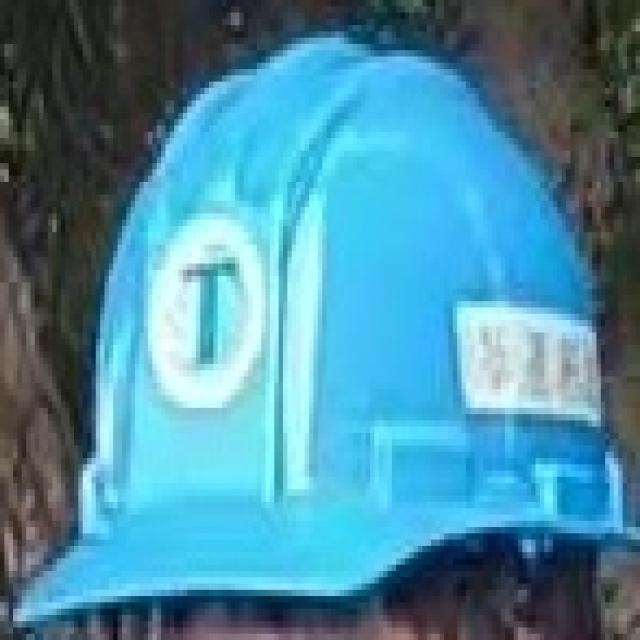Helmet: (2, 3, 638, 637)
